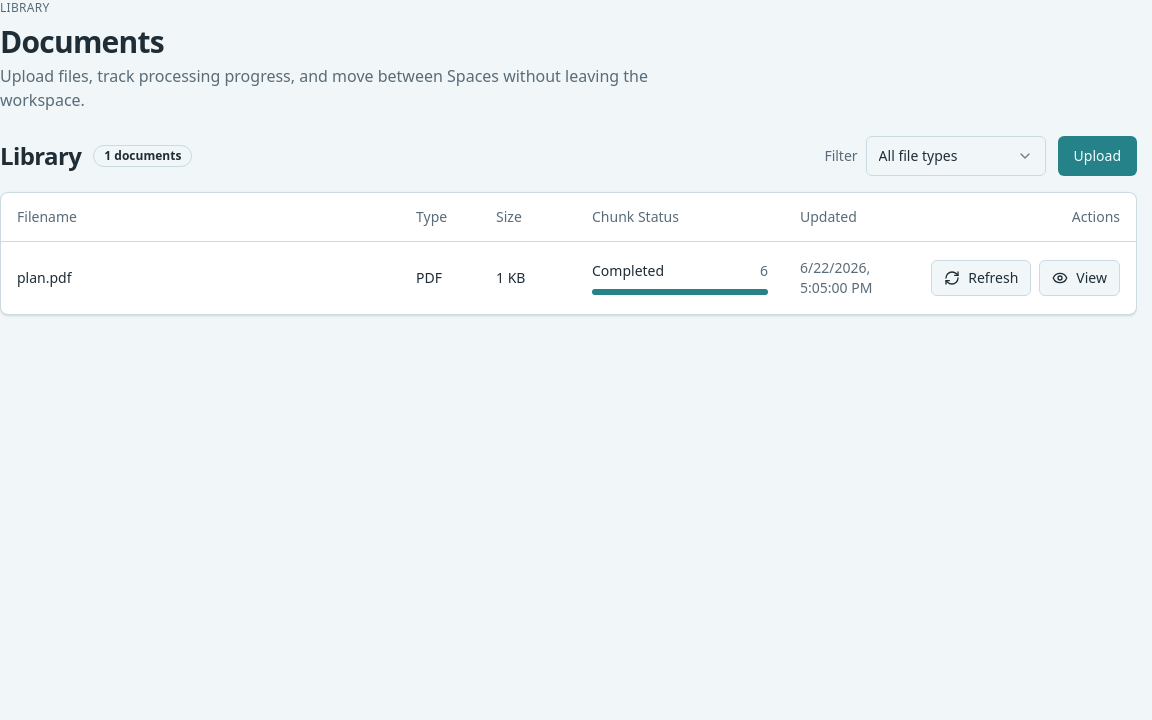
Test: DocumentsPage › uploads multiple files and keeps the user on the library page
The width and height of the screenshot is (1152, 720).
Expected: the heading "Library" is shown, [0,140,81,172]
Expected: the heading "Upload documents" is not shown
Click the button "Upload" at (1097,156), box [1058,136,1137,176]
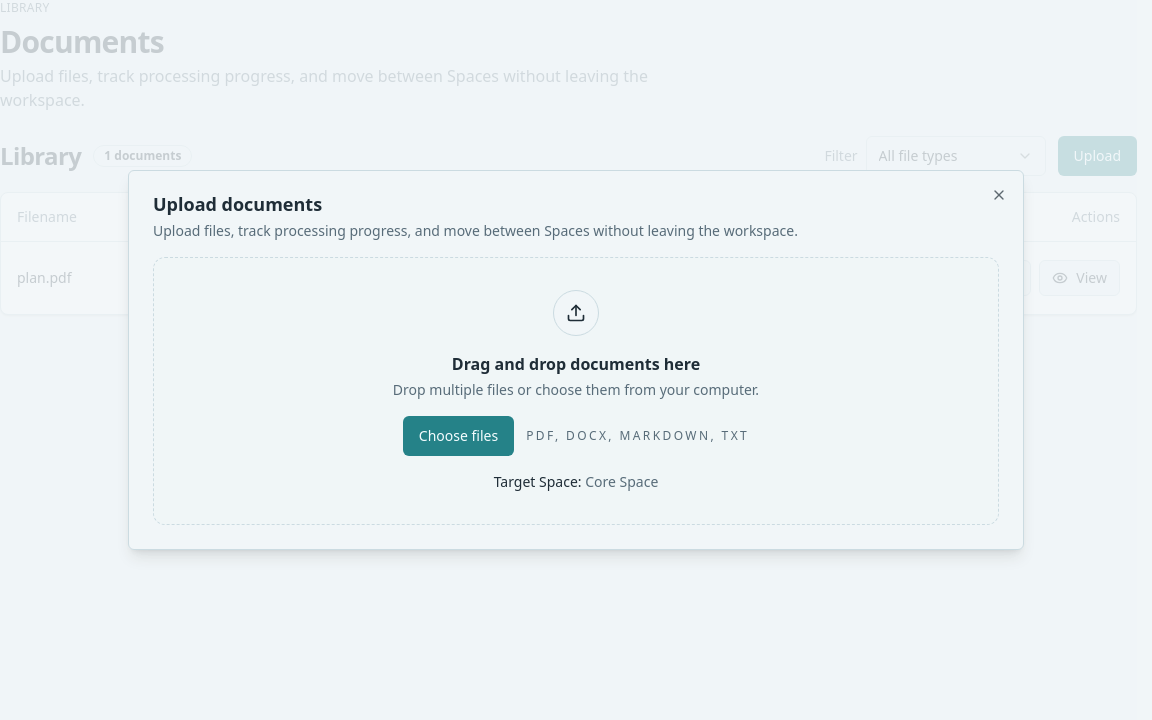
Expected: the heading "Upload documents" is shown, [153,192,322,216]
Expected: the text "Target Space:" is shown, [494,472,582,491]
Expected: the text "Core Space" is shown, [585,472,658,491]
